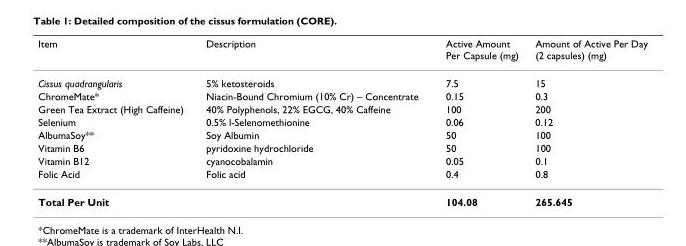table: (37, 37, 646, 207)
table column: (194, 37, 431, 207), (37, 37, 194, 207), (526, 37, 646, 207), (431, 37, 526, 207)
table column header: (37, 37, 646, 68)
table row: (37, 37, 646, 68), (37, 68, 646, 89), (37, 166, 646, 187), (37, 187, 646, 207), (37, 89, 646, 102), (37, 102, 646, 115), (37, 115, 646, 128), (37, 128, 646, 141), (37, 153, 646, 166), (37, 141, 646, 153)
